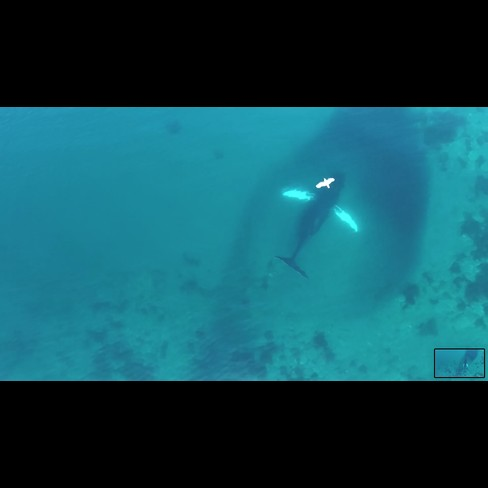hump: (267, 163, 365, 293)
